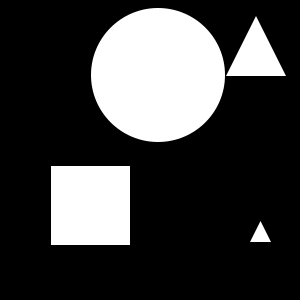circle: (51, 166, 130, 245)
rectangle: (91, 8, 225, 142)
triangle: (226, 16, 286, 76), (250, 221, 271, 242)
